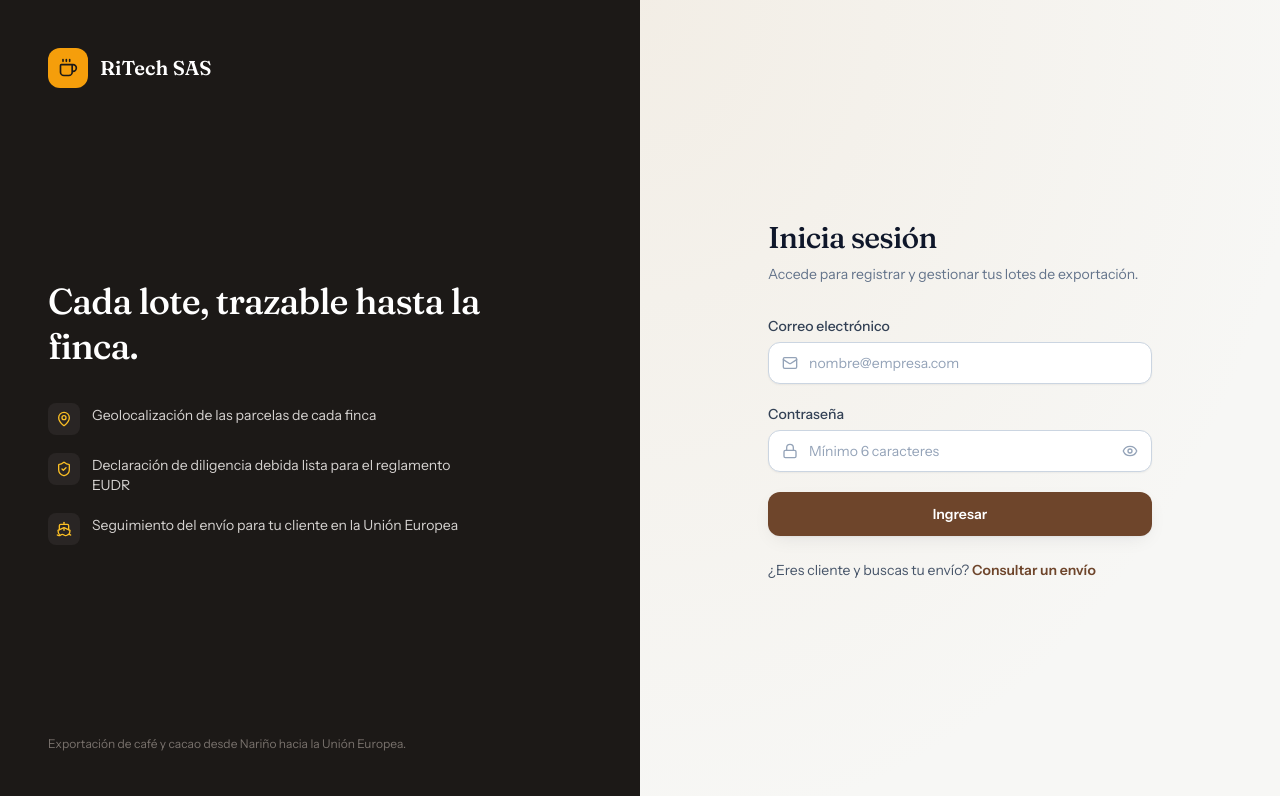
it: App (integración: rutas + sesión + vistas) › login completo: entra a /dashboard y guarda la sesión en localStorage
Type "exportador@ritech.co" into the field labelled "Correo electrónico". click: [960, 363]
box: top-left (768, 342), bottom-right (1152, 384)
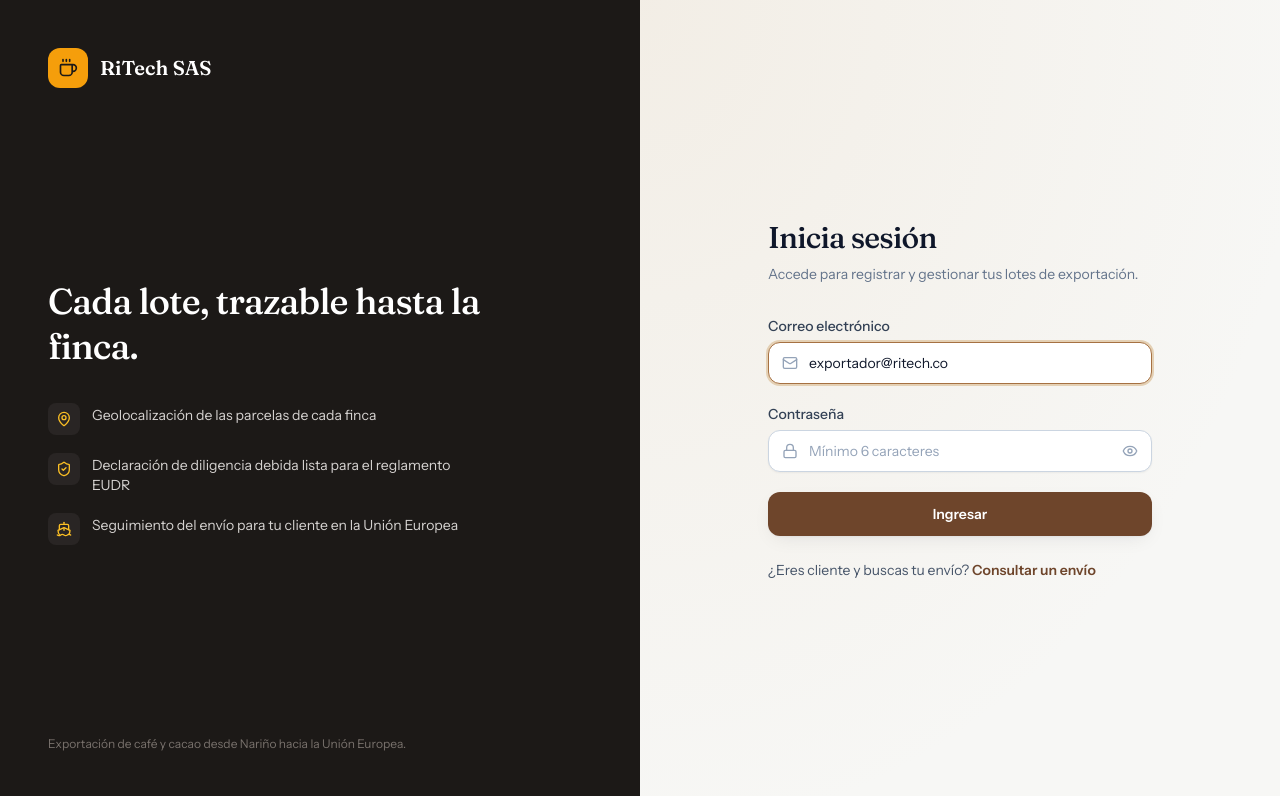
Type "clave123" into the password field labelled "Contraseña". click: [960, 451]
box: top-left (768, 430), bottom-right (1152, 472)
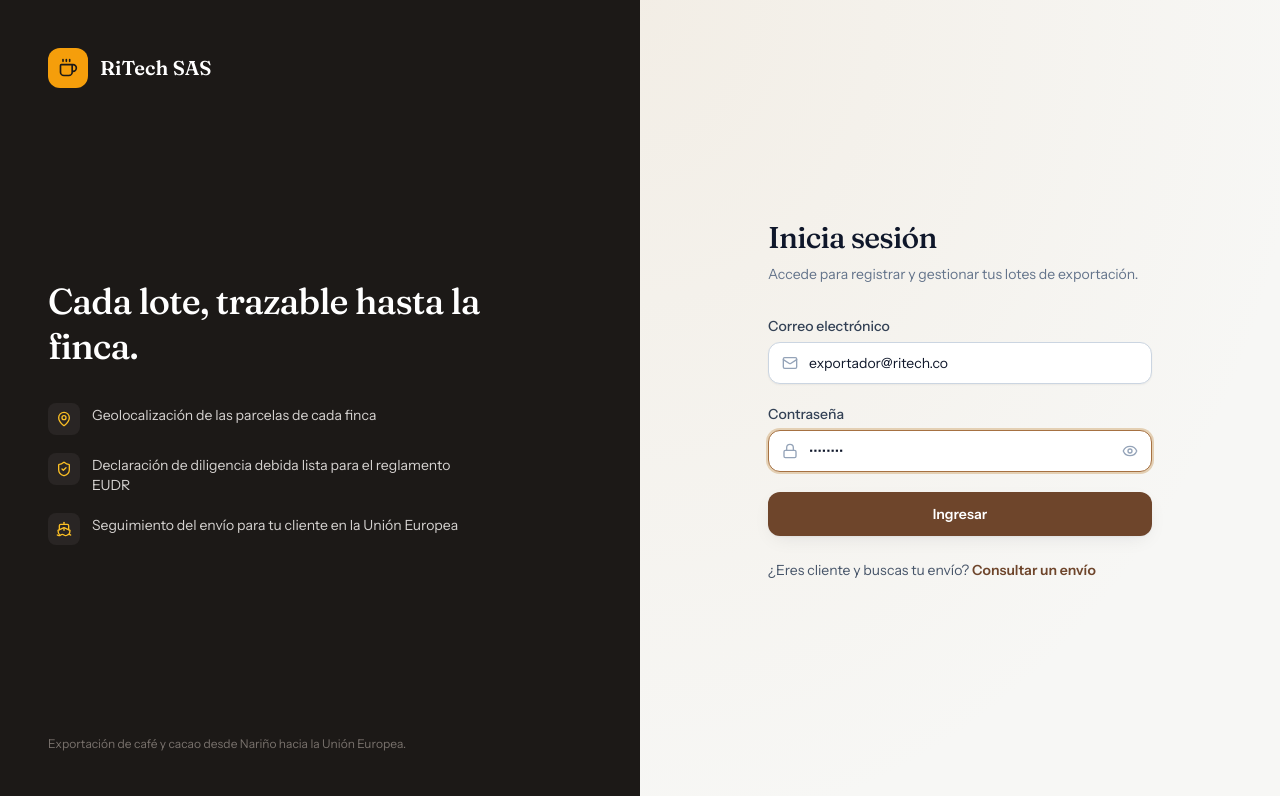
Click the button "Ingresar". click: [960, 514]
box: top-left (768, 492), bottom-right (1152, 536)
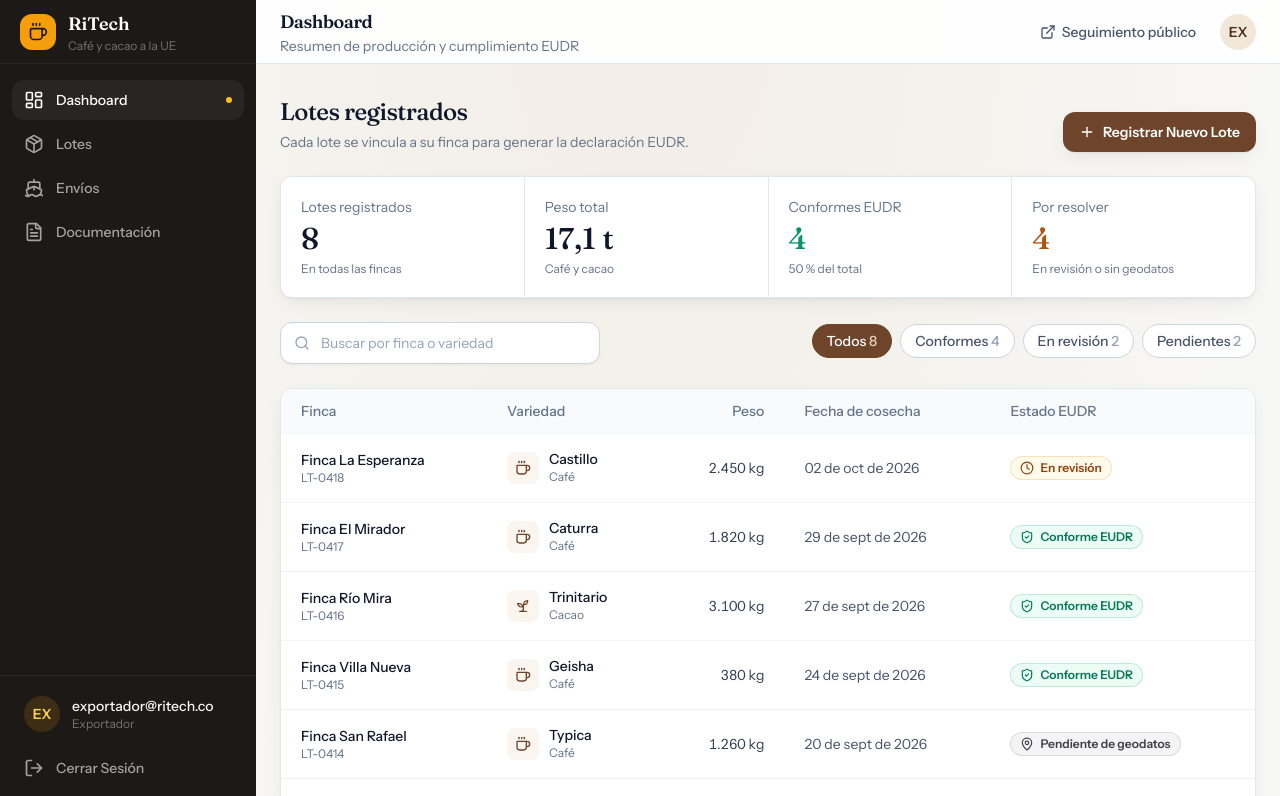
Expected: the text "Resumen de producción y cumplimiento EUDR" is shown, top-left (280, 36), bottom-right (579, 54)
